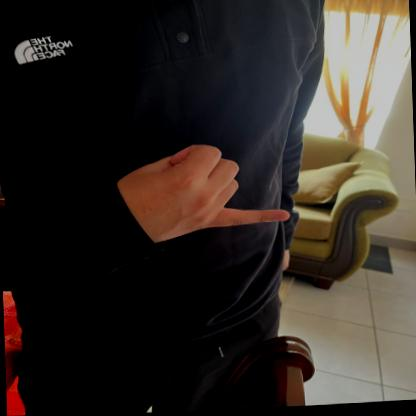J: (121, 137, 297, 253)
